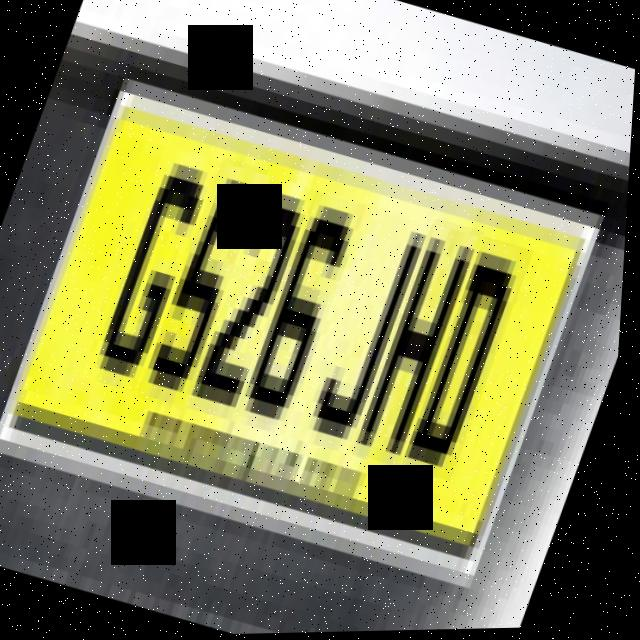5: (141, 157, 271, 412)
6: (239, 191, 369, 431)
D: (406, 237, 539, 485)
G: (83, 143, 224, 397)
H: (354, 219, 487, 470)
J: (305, 212, 436, 451)
